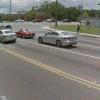Car: (36, 25, 80, 50)
